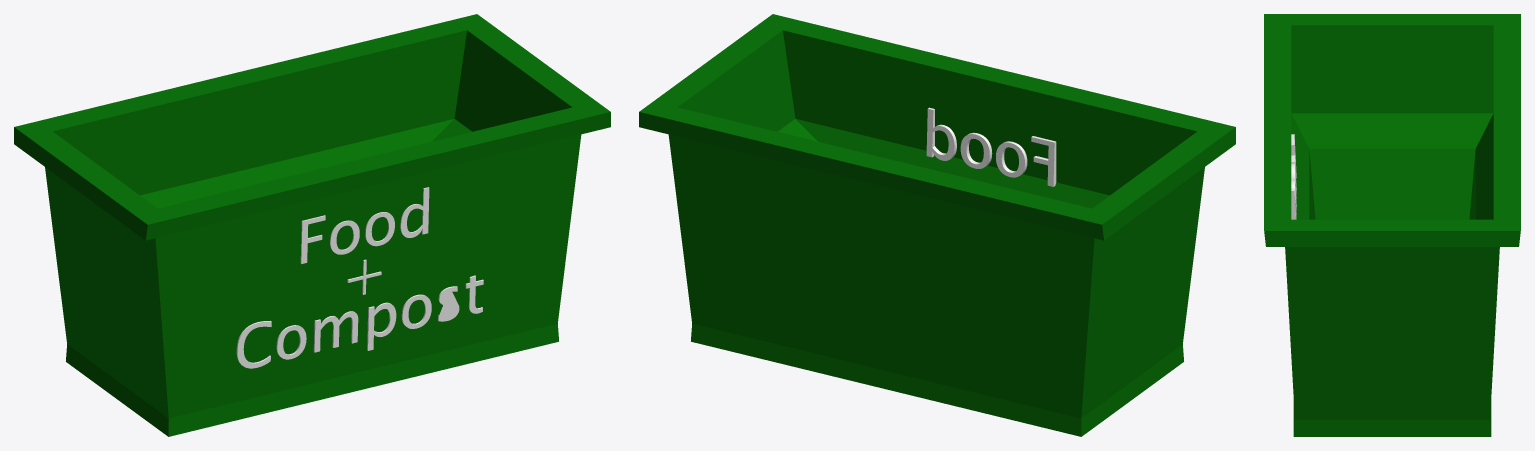
File: Tip Container Food Compost.fbx
3 views of the same model, side by side, from view 1: azimuth 30°, elevation 25°; view 2: azimuth 150°, elevation 25°; view 3: azimuth 270°, elevation 25° (orthographic). The views are drawn at different scales.
Visible parts, largest first — view 1: pCube2, typeMesh1; view 2: pCube2, typeMesh1; view 3: pCube2, typeMesh1.
Boxes of the visible parts, box(x1,y1,x2,y2) form: pCube2: box(14, 14, 610, 436); typeMesh1: box(236, 187, 483, 368); pCube2: box(639, 14, 1235, 436); typeMesh1: box(926, 107, 1056, 186); pCube2: box(1264, 14, 1520, 436); typeMesh1: box(1291, 134, 1296, 219).
Bounding box in the file's own units: 10.48 × 5 × 5.22.
